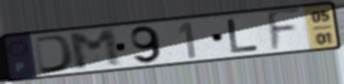1: (177, 20, 198, 60)
9: (129, 24, 164, 65)
D: (32, 33, 77, 75)
F: (265, 6, 304, 55)
L: (224, 17, 262, 55)
M: (66, 27, 125, 72)
